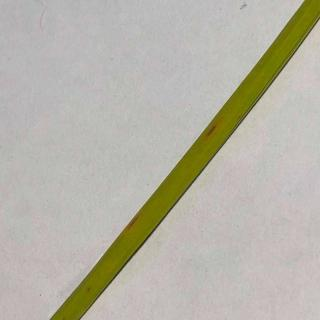bercak-Cokelat: (198, 118, 220, 142), (130, 209, 142, 235)
